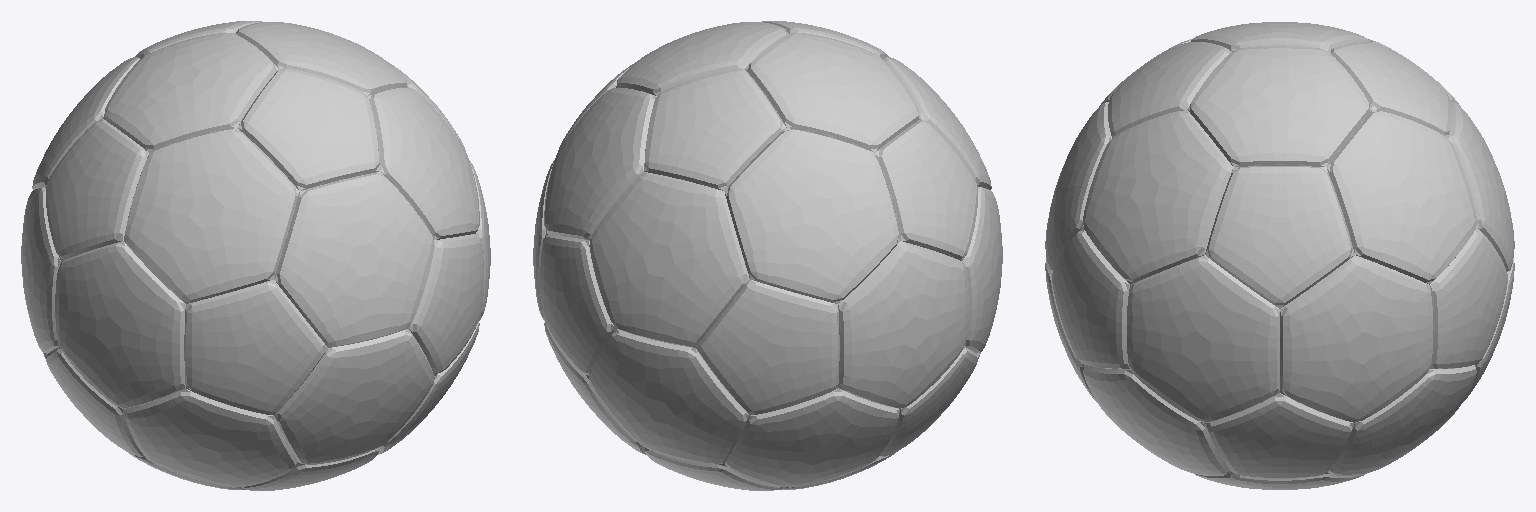
The picture shows the model from 3 angles: view 1: azimuth 30°, elevation 25°; view 2: azimuth 150°, elevation 25°; view 3: azimuth 270°, elevation 25°; orthographic projection.
Parts seen in each view (by area): view 1: Hedra01; view 2: Hedra01; view 3: Hedra01.
Part boxes in pixels (bbox=[...]): Hedra01: bbox=[21, 21, 490, 490]; Hedra01: bbox=[533, 21, 1002, 490]; Hedra01: bbox=[1045, 22, 1514, 489].
Bounding box in the file's own units: 0.4736 × 0.4736 × 0.4736.